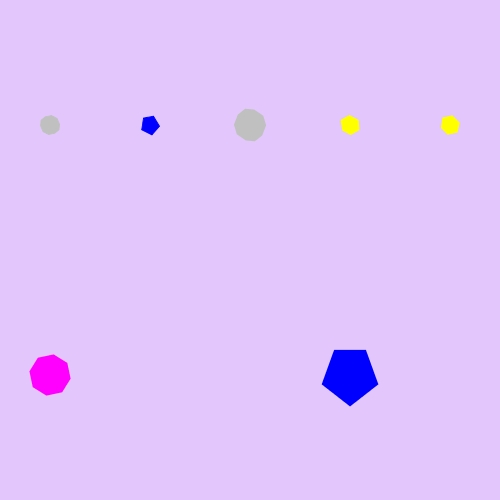decagon: (229, 106, 271, 145), (35, 111, 65, 139)
hexagon: (335, 112, 365, 138), (435, 112, 465, 138)
octagon: (25, 350, 75, 400)
pentagon: (319, 344, 382, 407), (136, 111, 164, 139)
